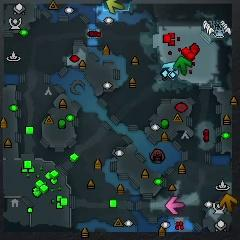x1: (165, 195, 185, 215)
x2: (106, 0, 125, 14)
x3: (163, 62, 179, 77)
x4: (174, 56, 192, 75)
x5: (220, 193, 238, 213)
